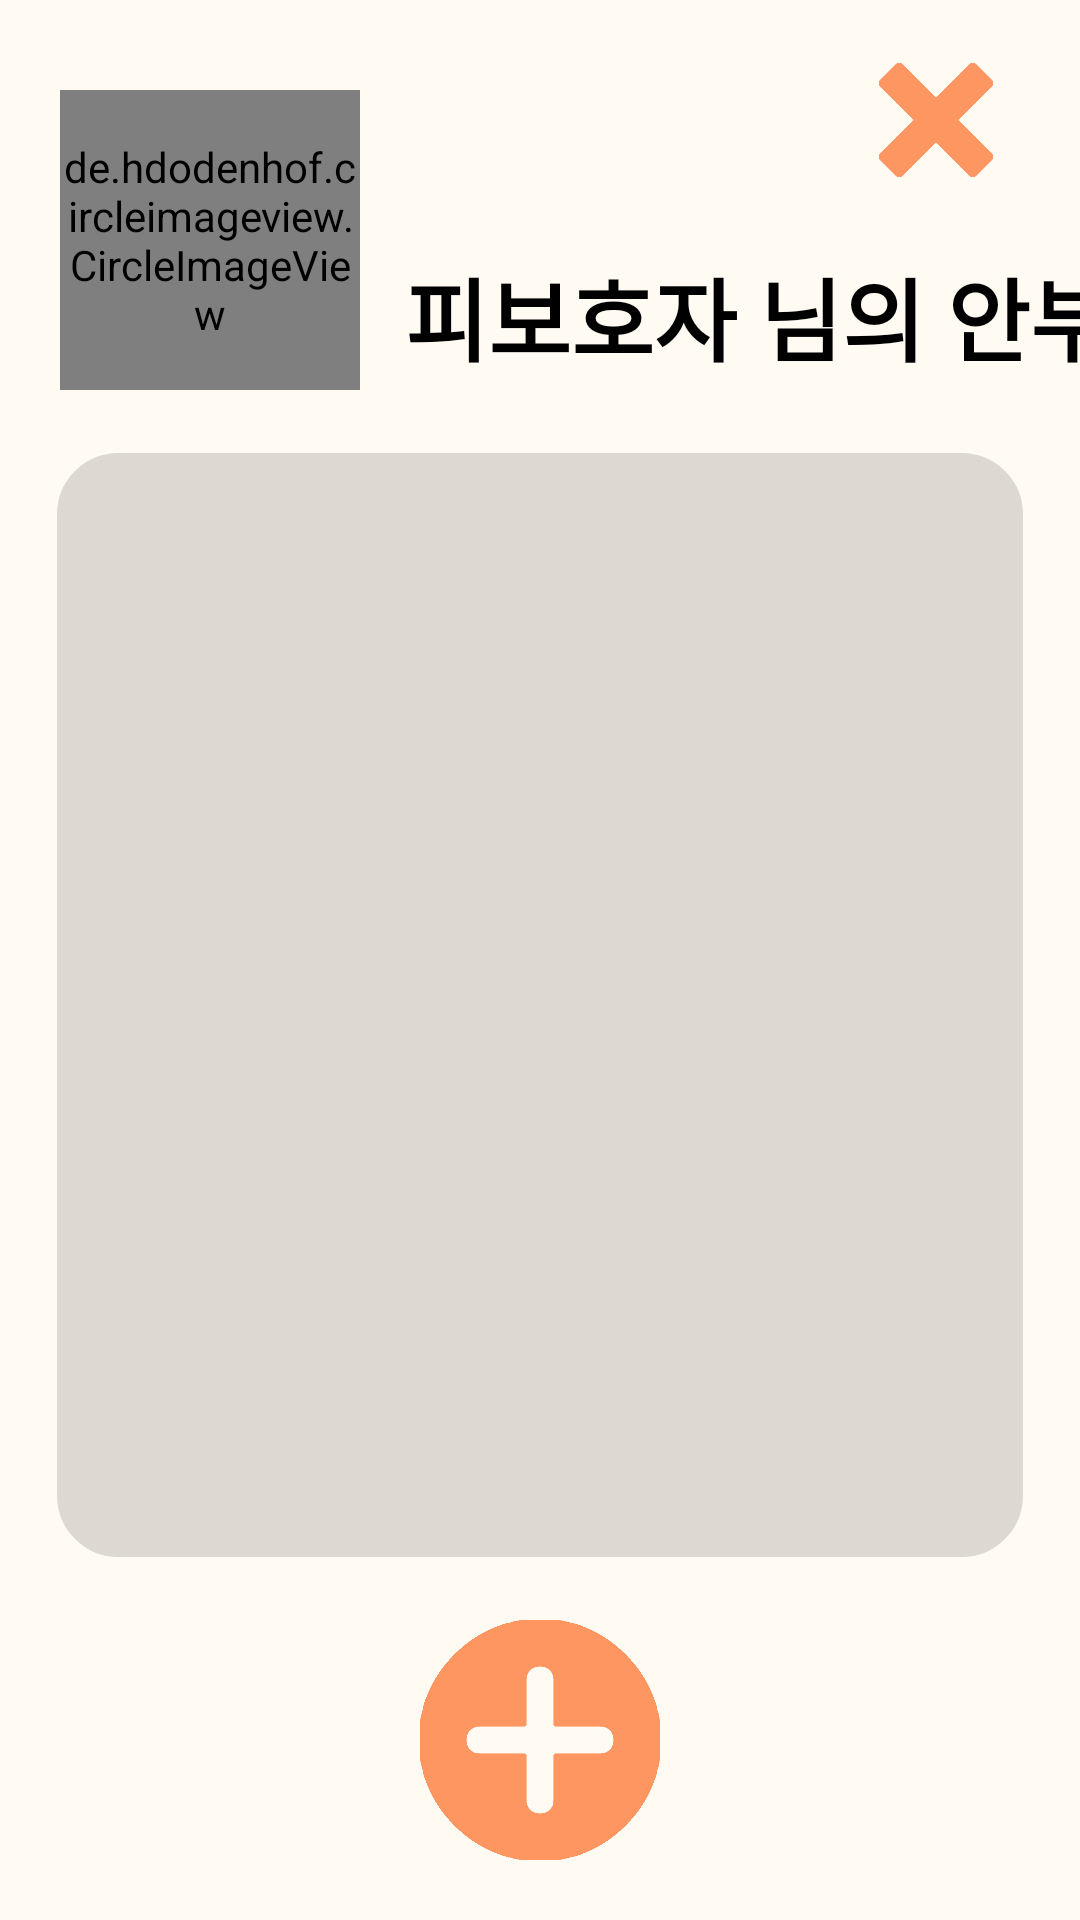

Named icons in this screenshot (1080x1920) and their bounding boxes, (x1, y1, x2, y2):
exitbtn: (879, 63, 993, 177)
